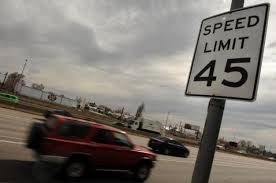speedLimit45: (180, 1, 271, 101)
